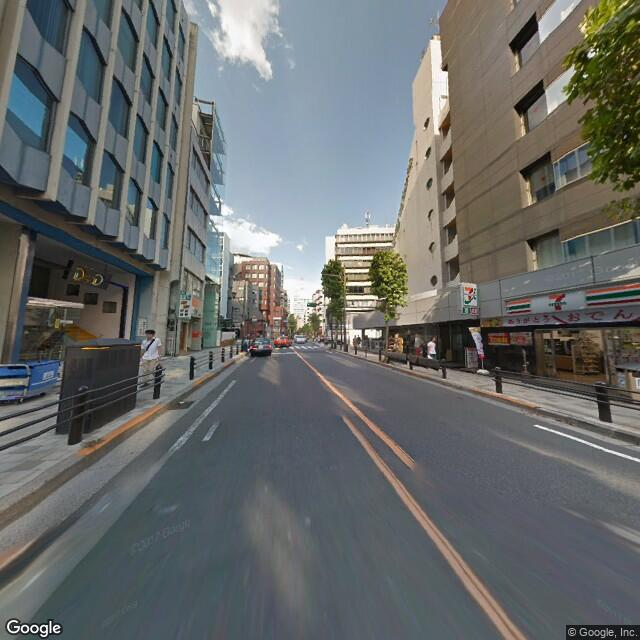7-eleven: (504, 277, 639, 319), (460, 279, 478, 310)
